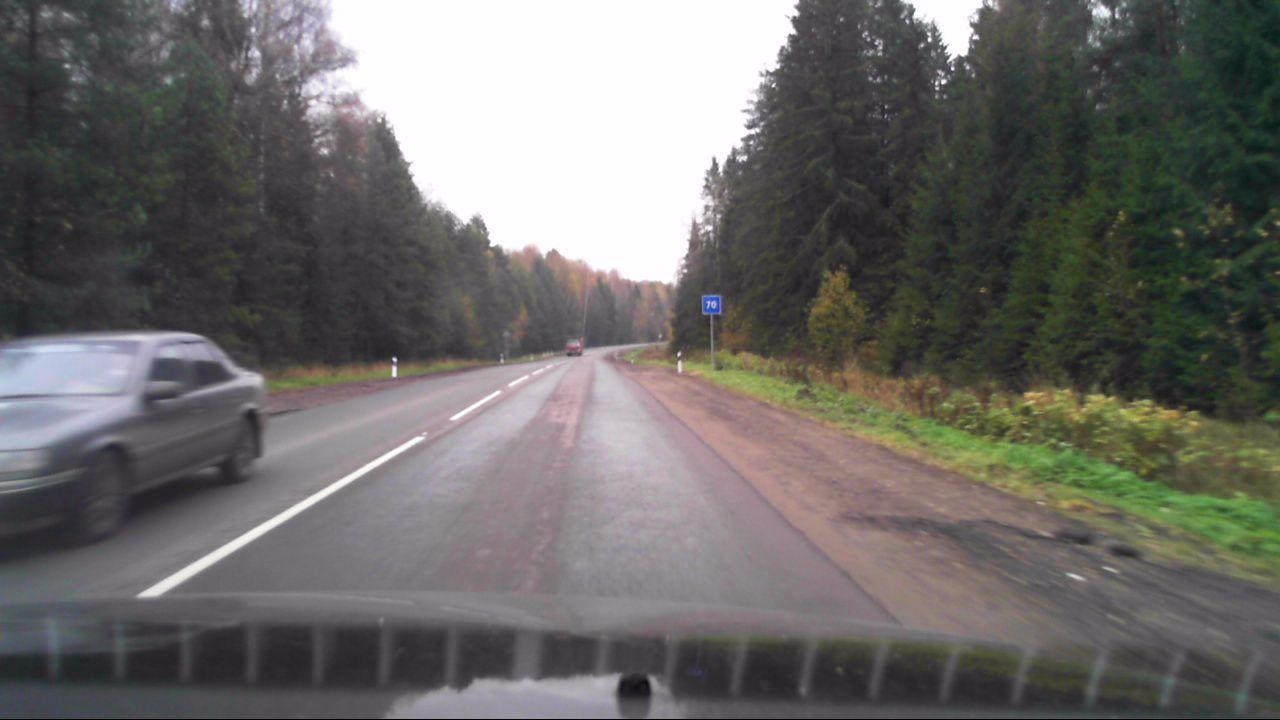6_2: (702, 295, 721, 313)
